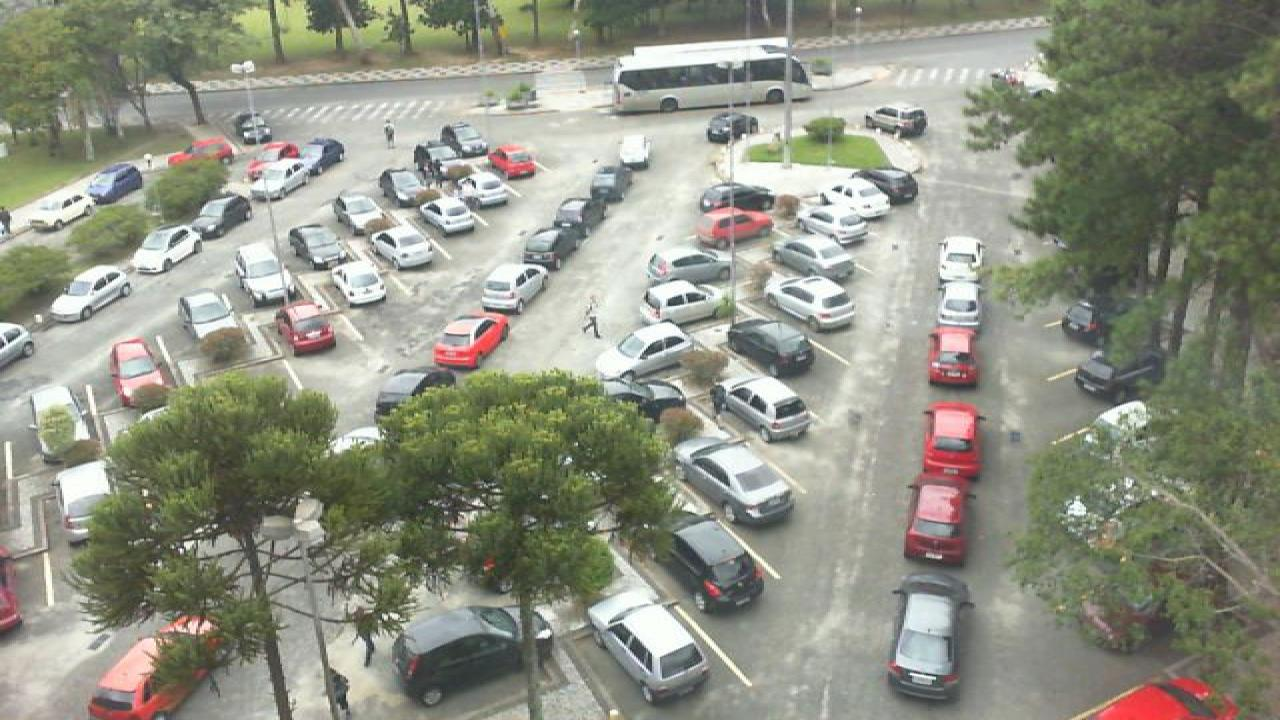Car: (390, 604, 554, 708), (86, 608, 226, 720), (582, 593, 710, 710), (668, 436, 796, 528), (658, 513, 768, 618), (886, 574, 974, 700), (708, 372, 812, 444), (592, 319, 700, 377), (722, 316, 818, 379), (902, 478, 970, 566), (764, 276, 858, 333), (916, 399, 984, 477), (54, 461, 114, 546), (48, 263, 132, 323), (1074, 348, 1158, 405), (372, 368, 452, 427), (28, 385, 90, 458), (430, 315, 510, 371), (106, 336, 170, 406), (174, 289, 238, 351), (642, 278, 726, 324), (482, 261, 552, 316), (1060, 297, 1130, 352), (774, 234, 856, 280), (130, 225, 204, 275), (644, 248, 736, 286), (234, 245, 292, 304), (926, 324, 980, 387), (278, 300, 338, 356), (366, 226, 438, 271), (694, 206, 778, 243), (818, 178, 890, 221), (288, 222, 352, 270), (794, 205, 870, 245), (848, 166, 922, 206), (28, 190, 94, 232), (254, 158, 320, 200), (80, 164, 144, 207), (696, 181, 778, 214), (330, 262, 390, 306), (860, 102, 930, 138), (936, 234, 986, 284), (522, 229, 580, 272), (418, 195, 478, 235), (164, 136, 236, 167), (934, 282, 982, 328), (440, 120, 492, 161), (456, 172, 514, 208), (332, 192, 384, 231), (378, 172, 432, 209), (486, 144, 540, 180), (554, 204, 604, 240), (706, 110, 758, 144), (300, 136, 346, 172), (242, 140, 300, 166), (580, 181, 624, 214), (234, 112, 274, 146), (618, 135, 652, 170), (600, 162, 636, 195)
